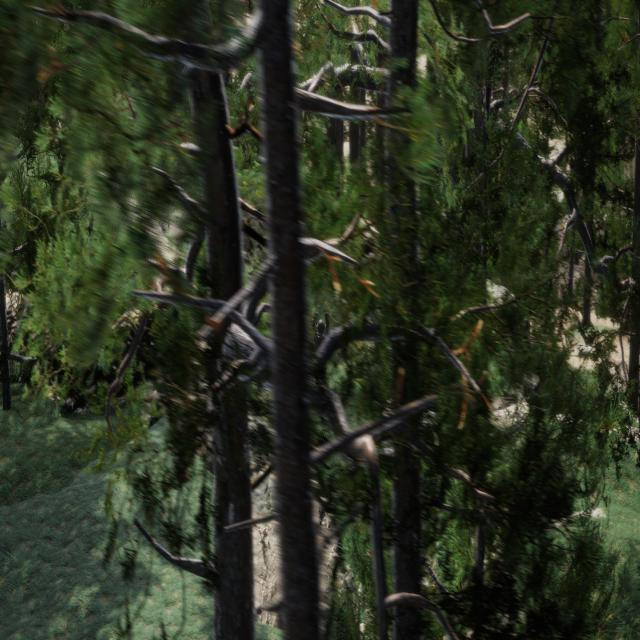Human: (310, 296, 336, 408)
